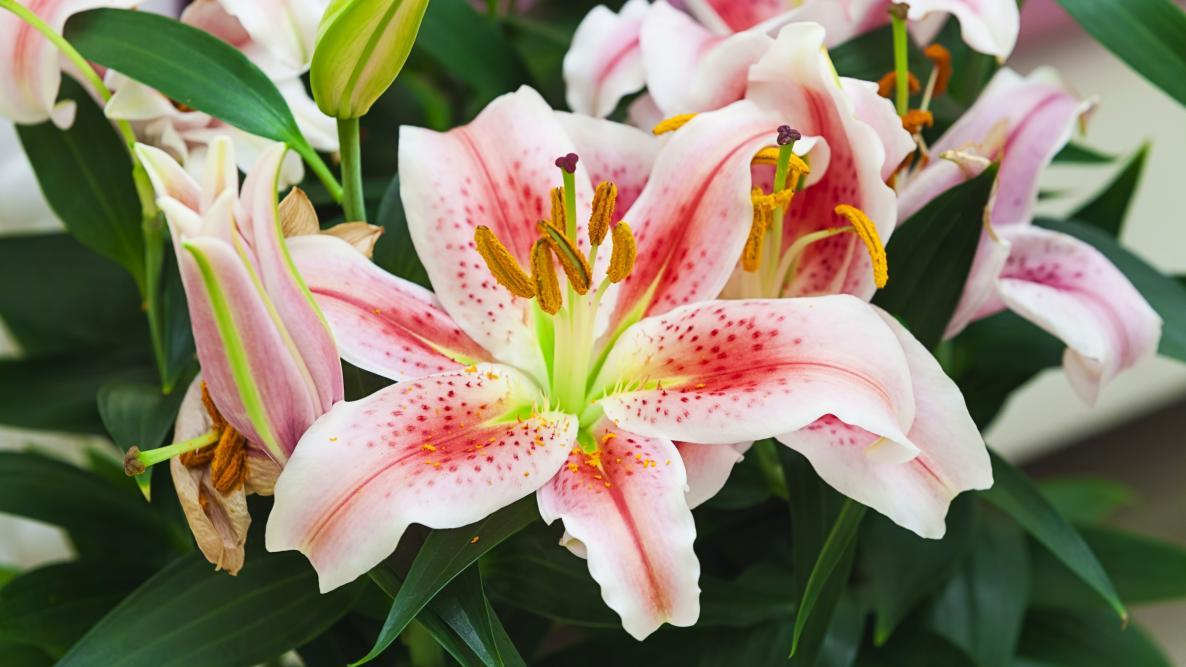lily: (282, 93, 920, 630)
